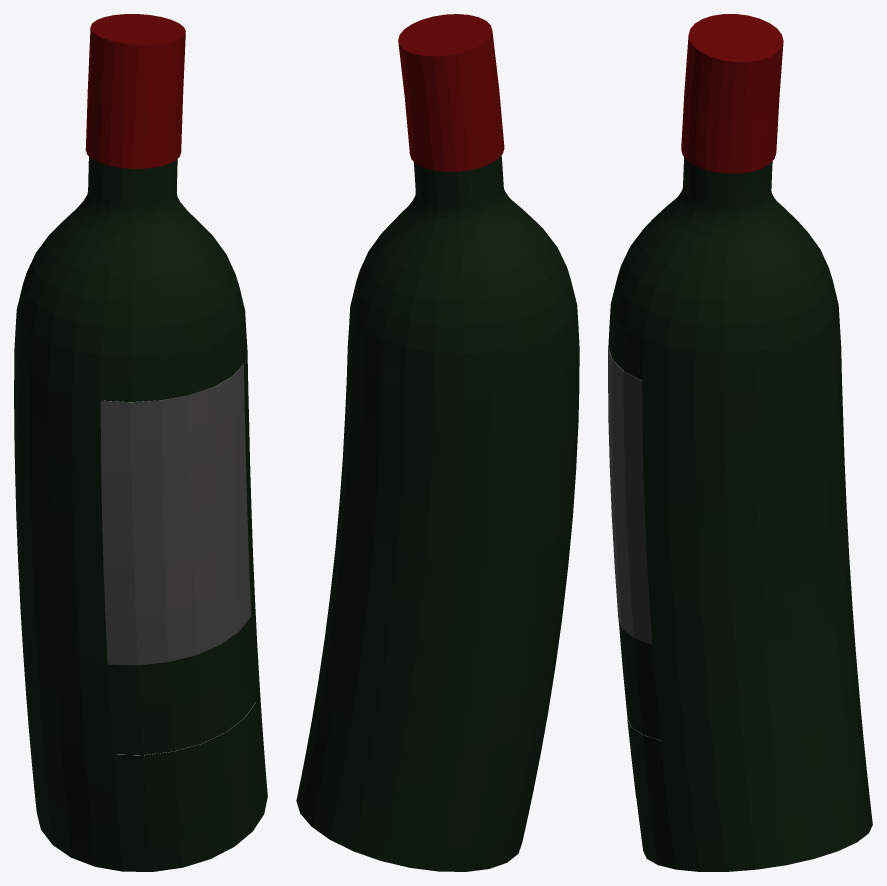
File: bend_low_0.obj
3 views of the same model, side by side, from view 1: azimuth 30°, elevation 25°; view 2: azimuth 150°, elevation 25°; view 3: azimuth 270°, elevation 25° (orthographic).
Parts seen in each view (by area): view 1: model; view 2: model; view 3: model.
Boxes of the visible parts, x1,y1,x2,y2 form: model: (14,14,267,871); model: (296,14,579,871); model: (608,14,872,871).
Bounding box in the file's own units: 0.0785 × 0.2566 × 0.0757.
1 material, 1 textured.
